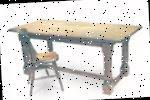Mesa: (9, 15, 145, 100)
Silla: (17, 26, 63, 95)
